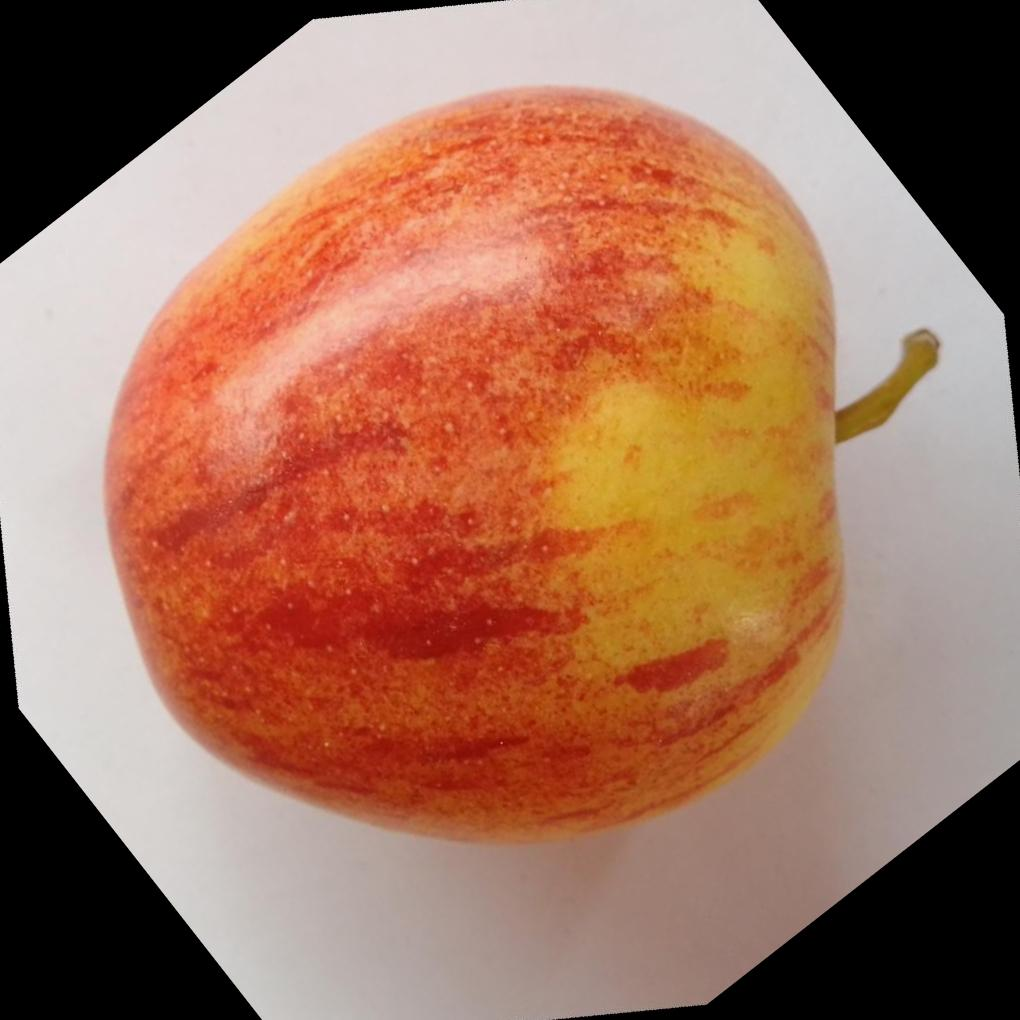FreshGuava: (98, 78, 846, 845)
